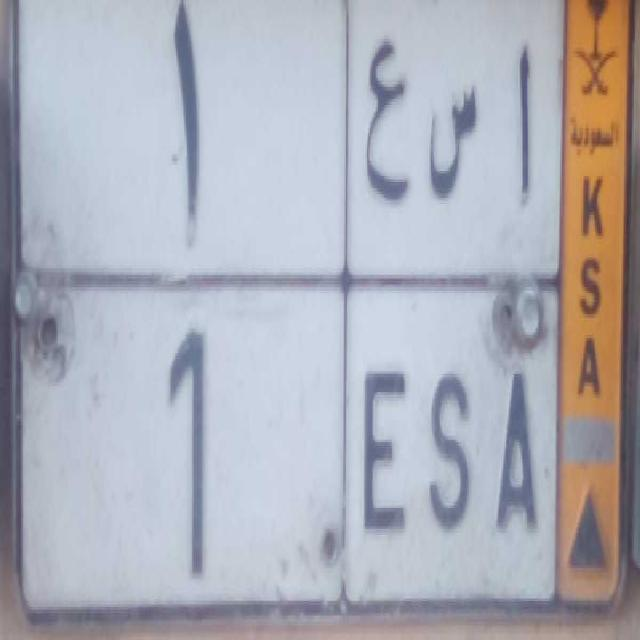license_plate: (16, 260, 560, 616)
